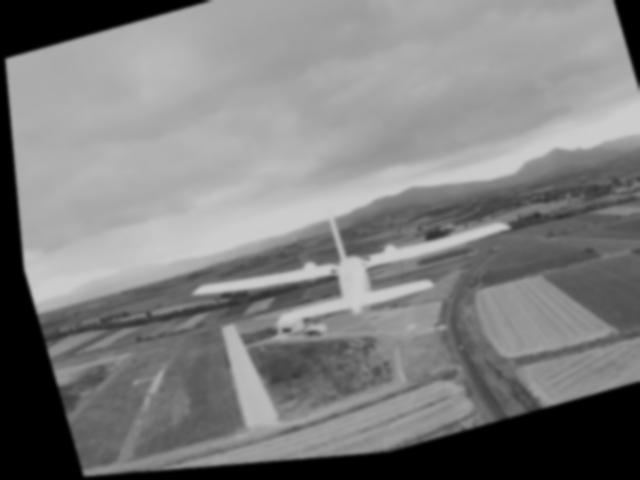hedef: (166, 169, 540, 377)
